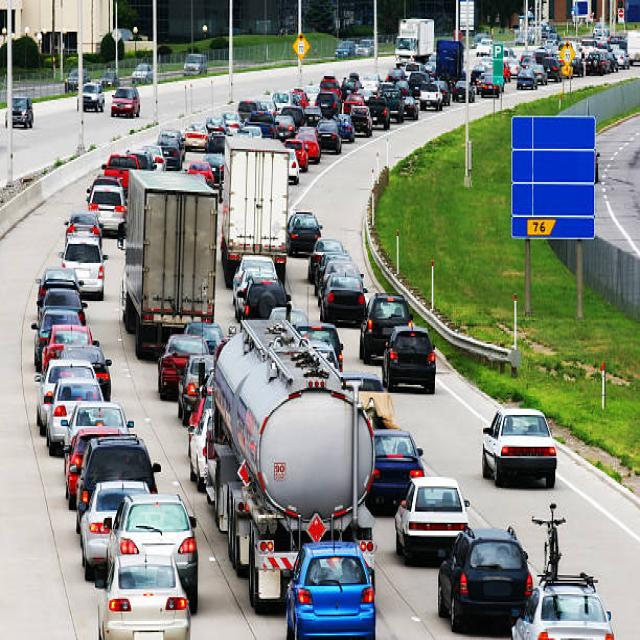16-Wheelers: (207, 317, 377, 613)
Car: (106, 493, 198, 613), (437, 526, 532, 632), (96, 546, 192, 638), (286, 540, 376, 638), (511, 574, 614, 638), (394, 476, 470, 562), (482, 407, 556, 488), (364, 428, 424, 515), (359, 292, 413, 364), (382, 325, 436, 393), (157, 333, 209, 399), (295, 322, 343, 372), (287, 210, 322, 256), (183, 322, 224, 353), (4, 95, 34, 128), (110, 86, 140, 117), (80, 81, 104, 111), (183, 52, 207, 74), (130, 62, 152, 82)
Traffic-sign: (509, 113, 596, 239)
Truck: (120, 168, 218, 358), (220, 133, 288, 288), (394, 16, 434, 65)
